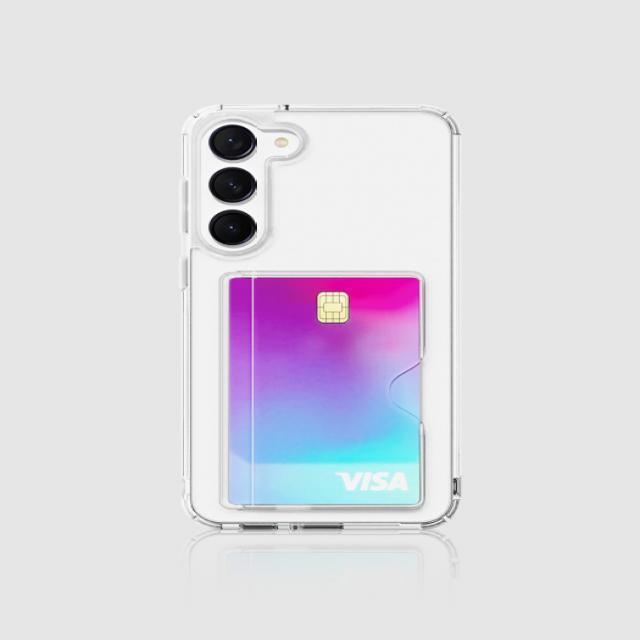phone: (180, 104, 462, 532)
